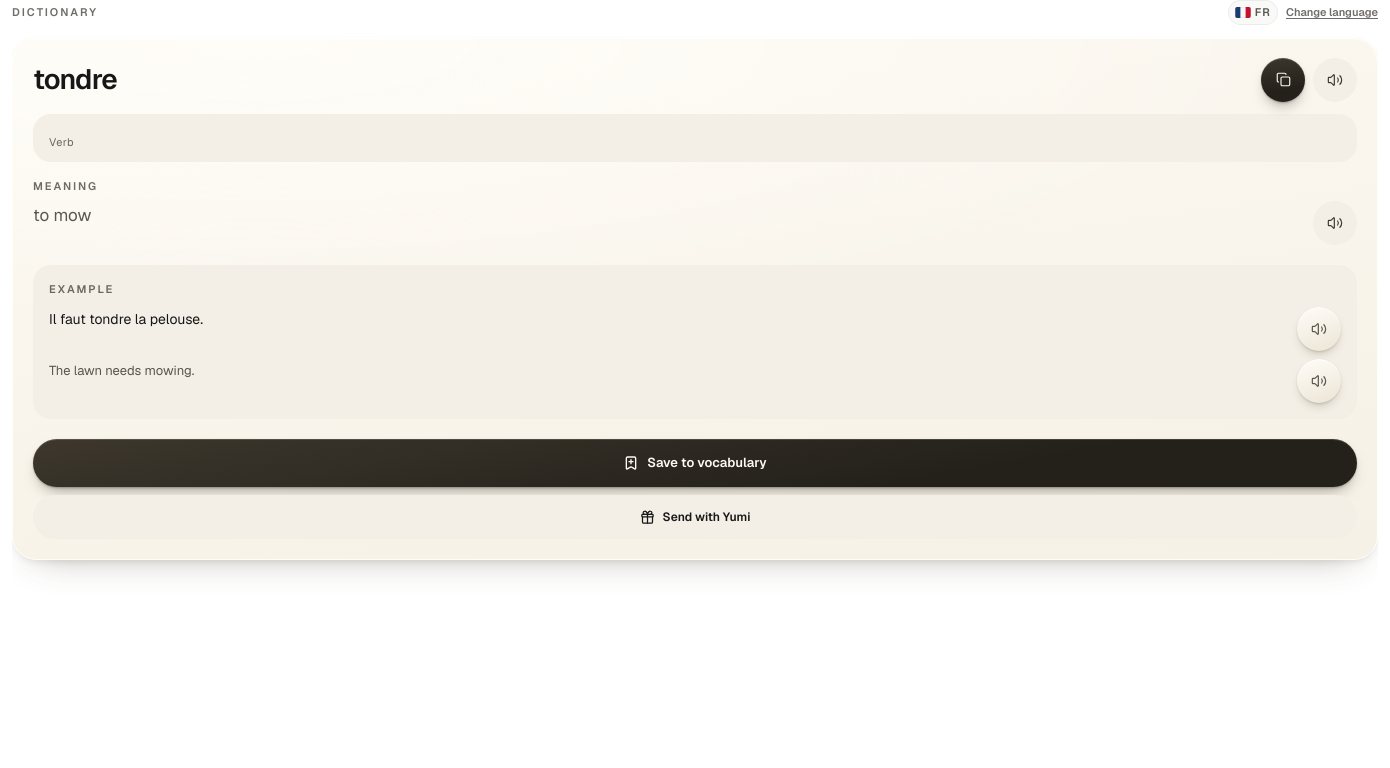
the result view › copies the primary learning-language word from the result card
The width and height of the screenshot is (1390, 768).
Click the button named "Copy tondre" at (1283, 80), box [1261,58,1305,102]
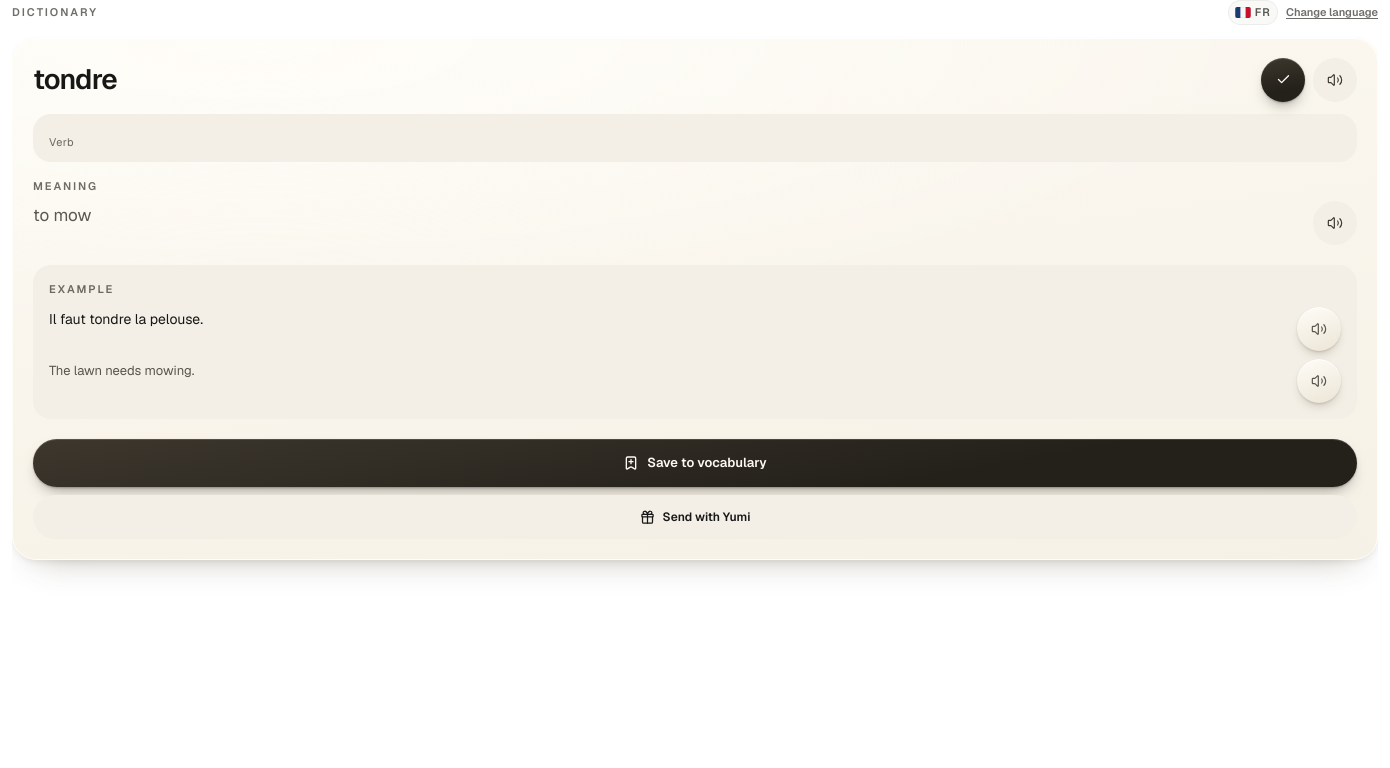
Expected: the button named "Copied" is shown, [1261,58,1305,102]
